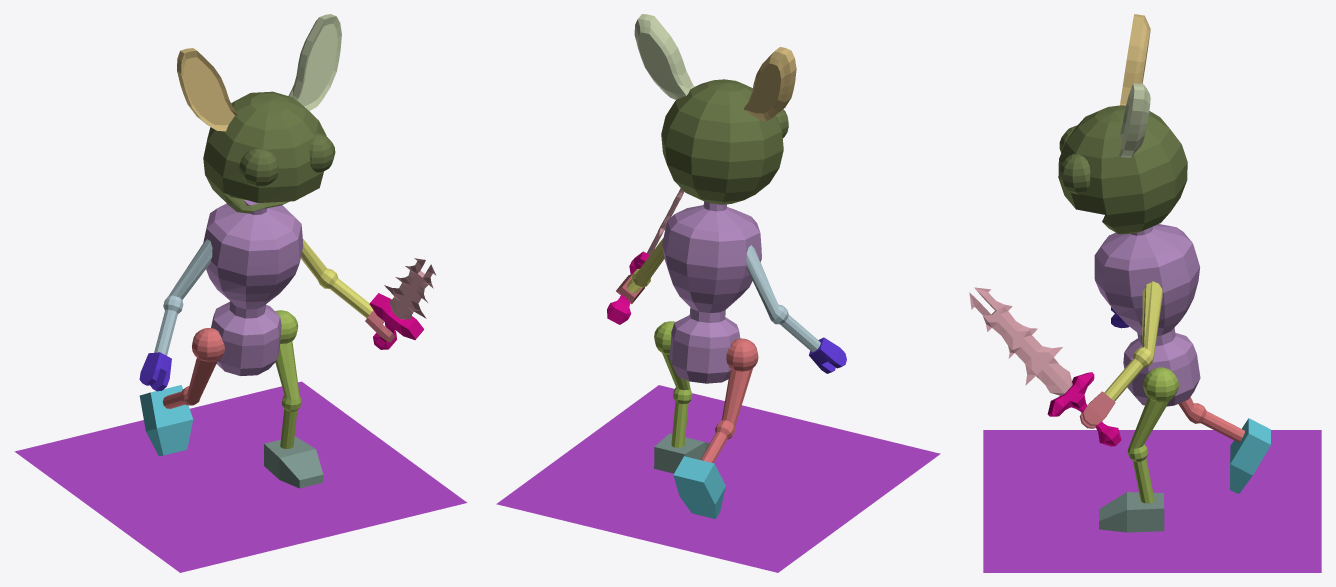
3 views of the same model, side by side, from view 1: azimuth 30°, elevation 25°; view 2: azimuth 150°, elevation 25°; view 3: azimuth 270°, elevation 25° (orthographic). The views are drawn at different scales.
Visible parts, largest first — view 1: world; view 2: world; view 3: world.
Part boxes in pixels (bbox=[...]): world: bbox=[14, 14, 467, 572]; world: bbox=[496, 14, 940, 572]; world: bbox=[969, 14, 1321, 572].
Bounding box in the file's own units: 0.6712 × 1 × 0.6988.
